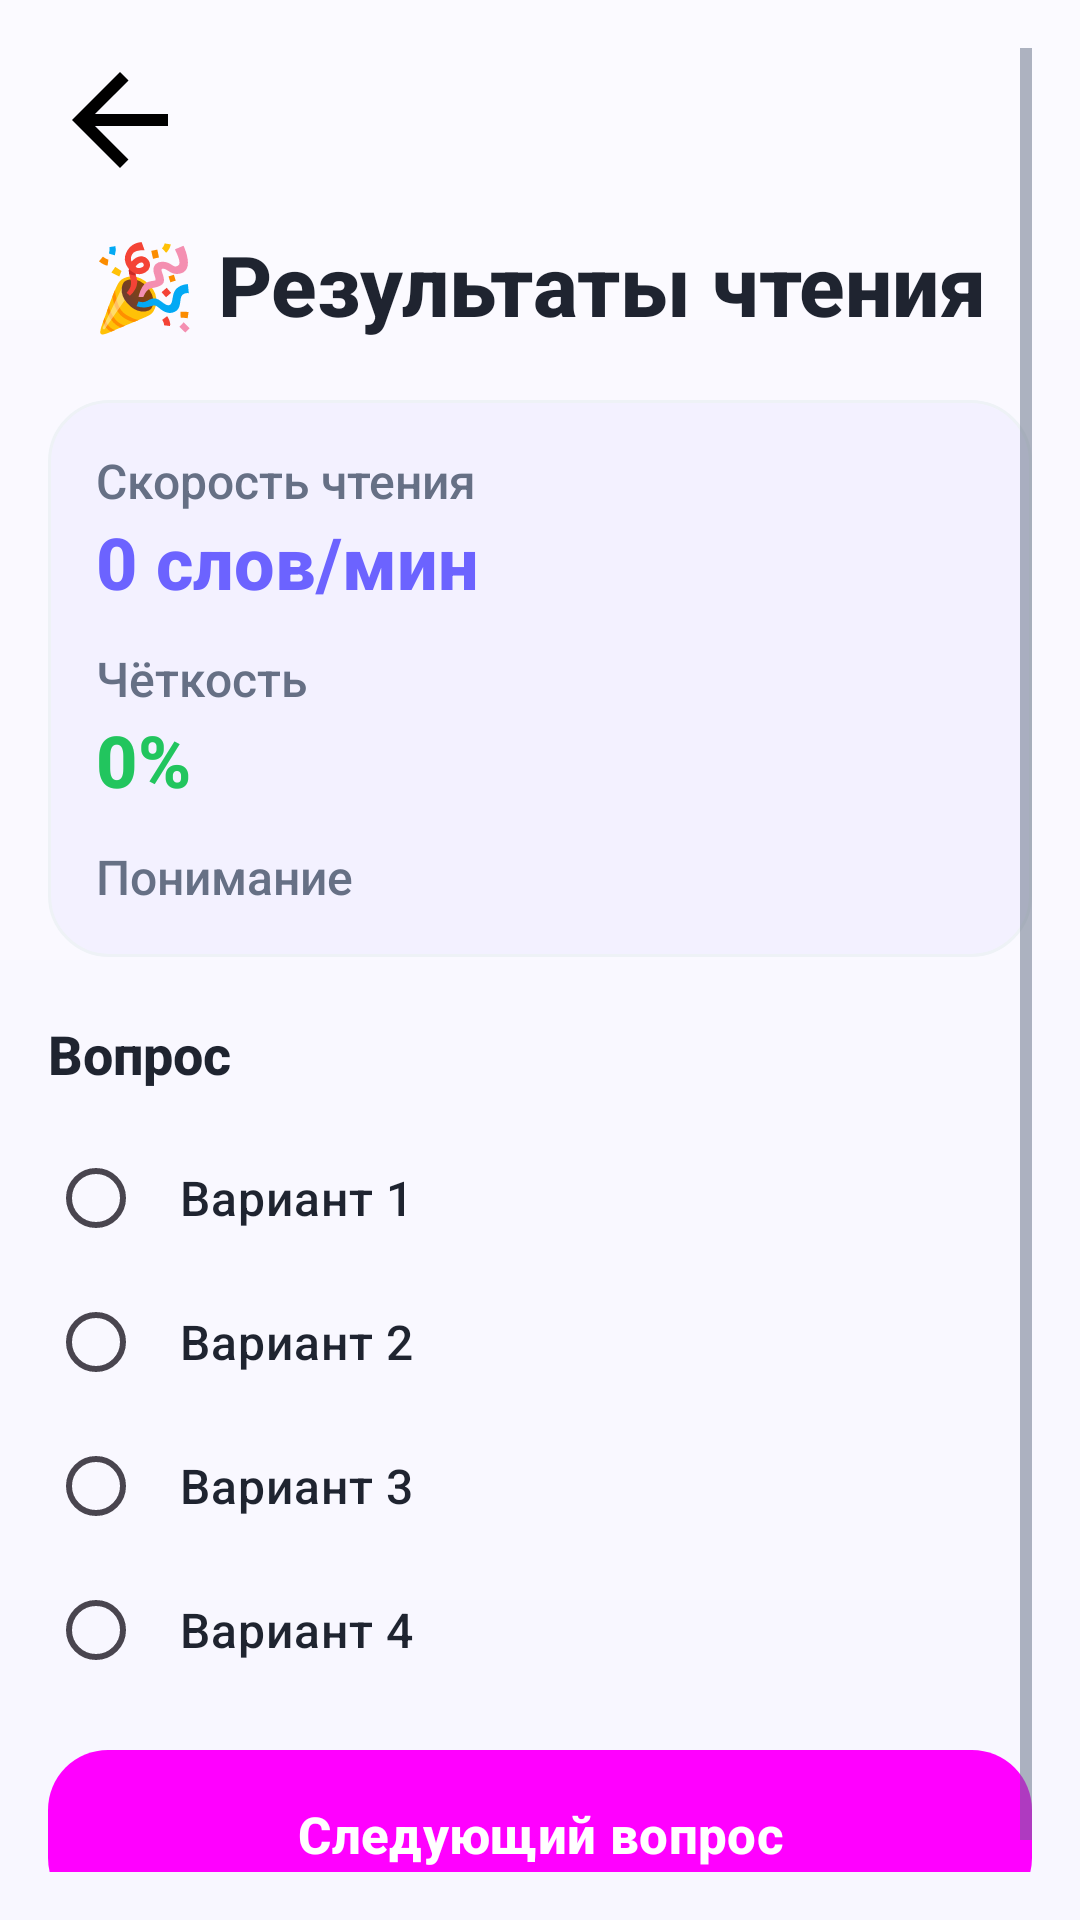

Screen size 1080*1920. Icon name, then its box in pixels as (x1, y1, x2, y2):
Назад: (72, 72, 168, 168)
